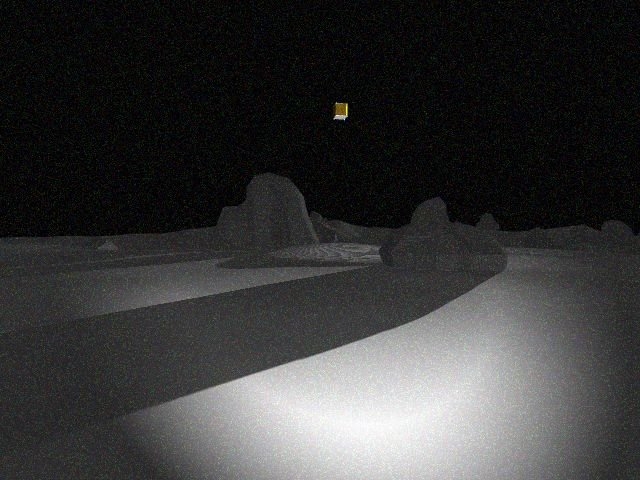cubesat: (331, 98, 353, 124)
